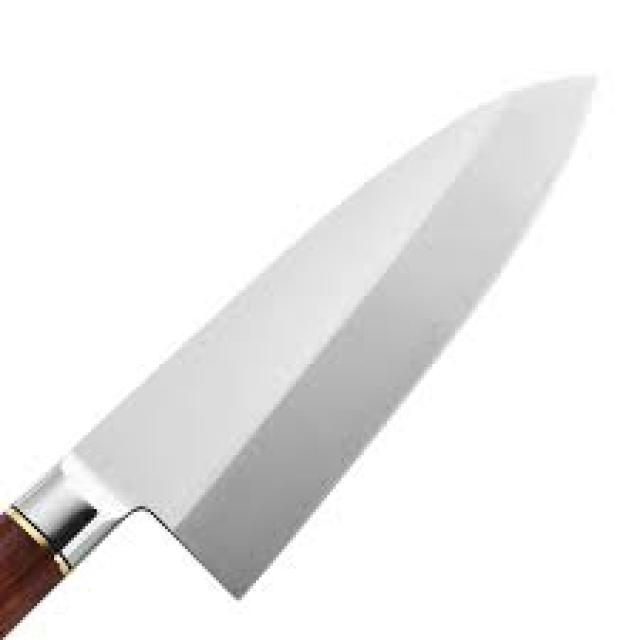Knife: (0, 74, 594, 637)
